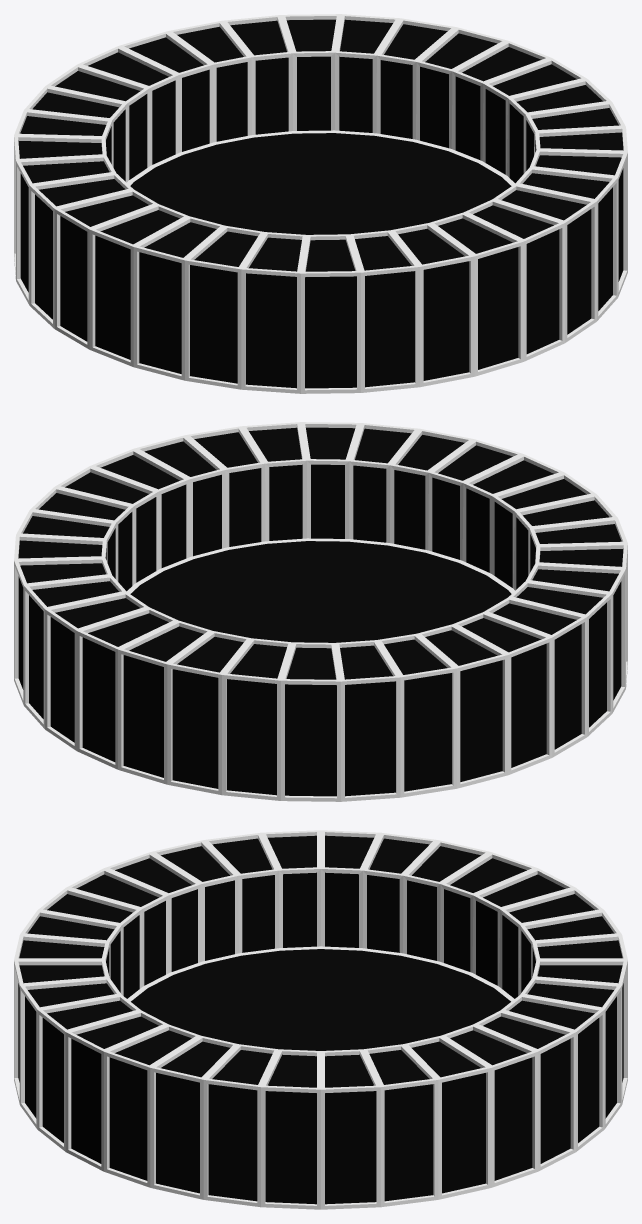
Rendered from firepit.dae.
3 renders of one model, top to bottom at view 1: azimuth 30°, elevation 25°; view 2: azimuth 150°, elevation 25°; view 3: azimuth 270°, elevation 25°, orthographic.
Visible parts, largest first — view 1: Cylinder; view 2: Cylinder; view 3: Cylinder.
Part boxes in pixels (left/top/right/bottom): Cylinder: left=14, top=14, right=627, bottom=393; Cylinder: left=14, top=422, right=627, bottom=801; Cylinder: left=14, top=830, right=627, bottom=1209.
Bounding box in the file's own units: 0.763 × 0.763 × 0.1646.
Materials: 1 (1 with a texture image).
